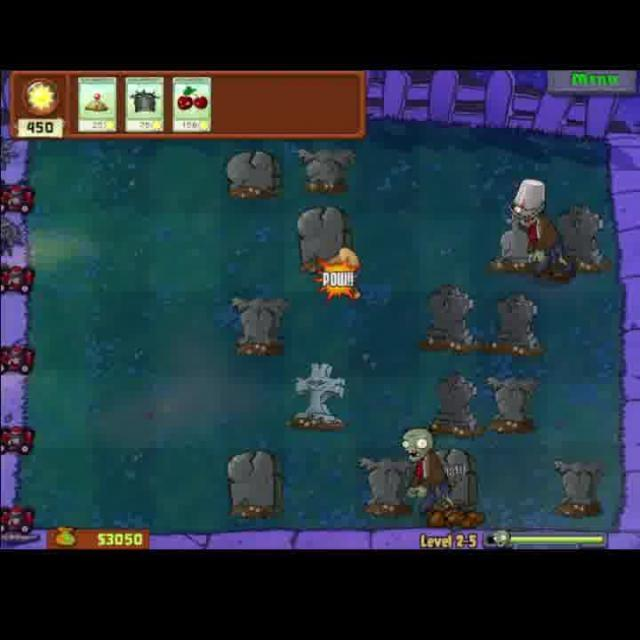zombies: (503, 176, 566, 278), (397, 418, 455, 526)
